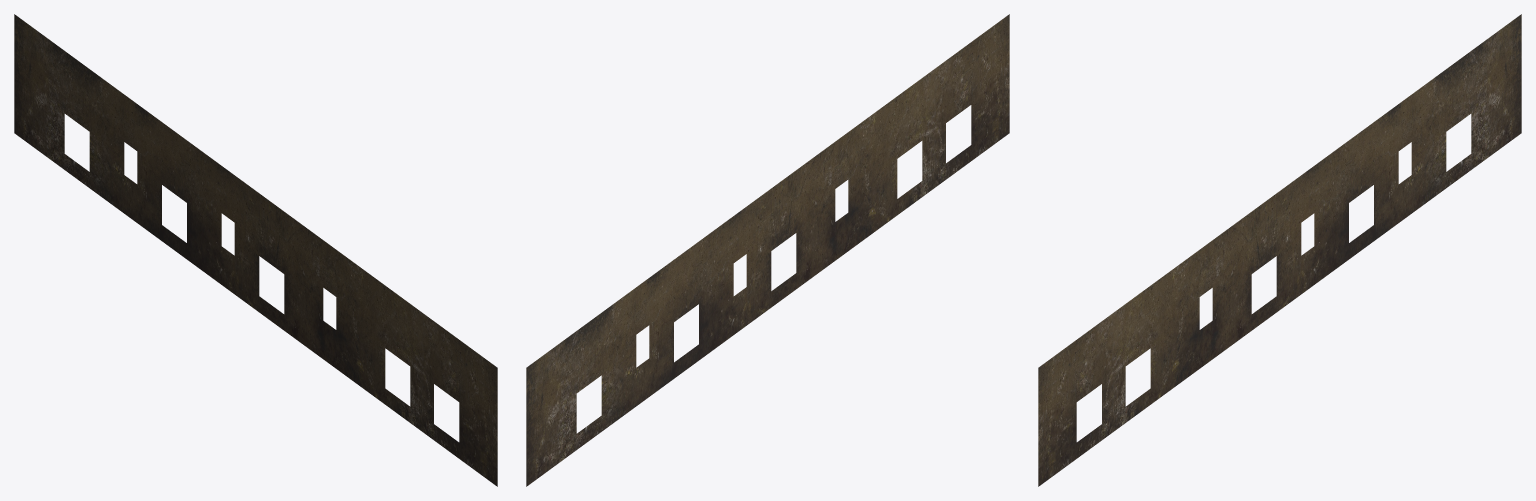
File: Wall_01.FBX
3 renders of one model, left to right at view 1: azimuth 30°, elevation 25°; view 2: azimuth 150°, elevation 25°; view 3: azimuth 330°, elevation 25°, orthographic.
Parts seen in each view (by area): view 1: Wall_01; view 2: Wall_01; view 3: Wall_01.
Boxes of the visible parts, x1,y1,x2,y2 form: Wall_01: [14, 14, 497, 486]; Wall_01: [526, 14, 1009, 486]; Wall_01: [1038, 14, 1521, 486].
Bounding box in the file's own units: 0.000625 × 511 × 3756.
